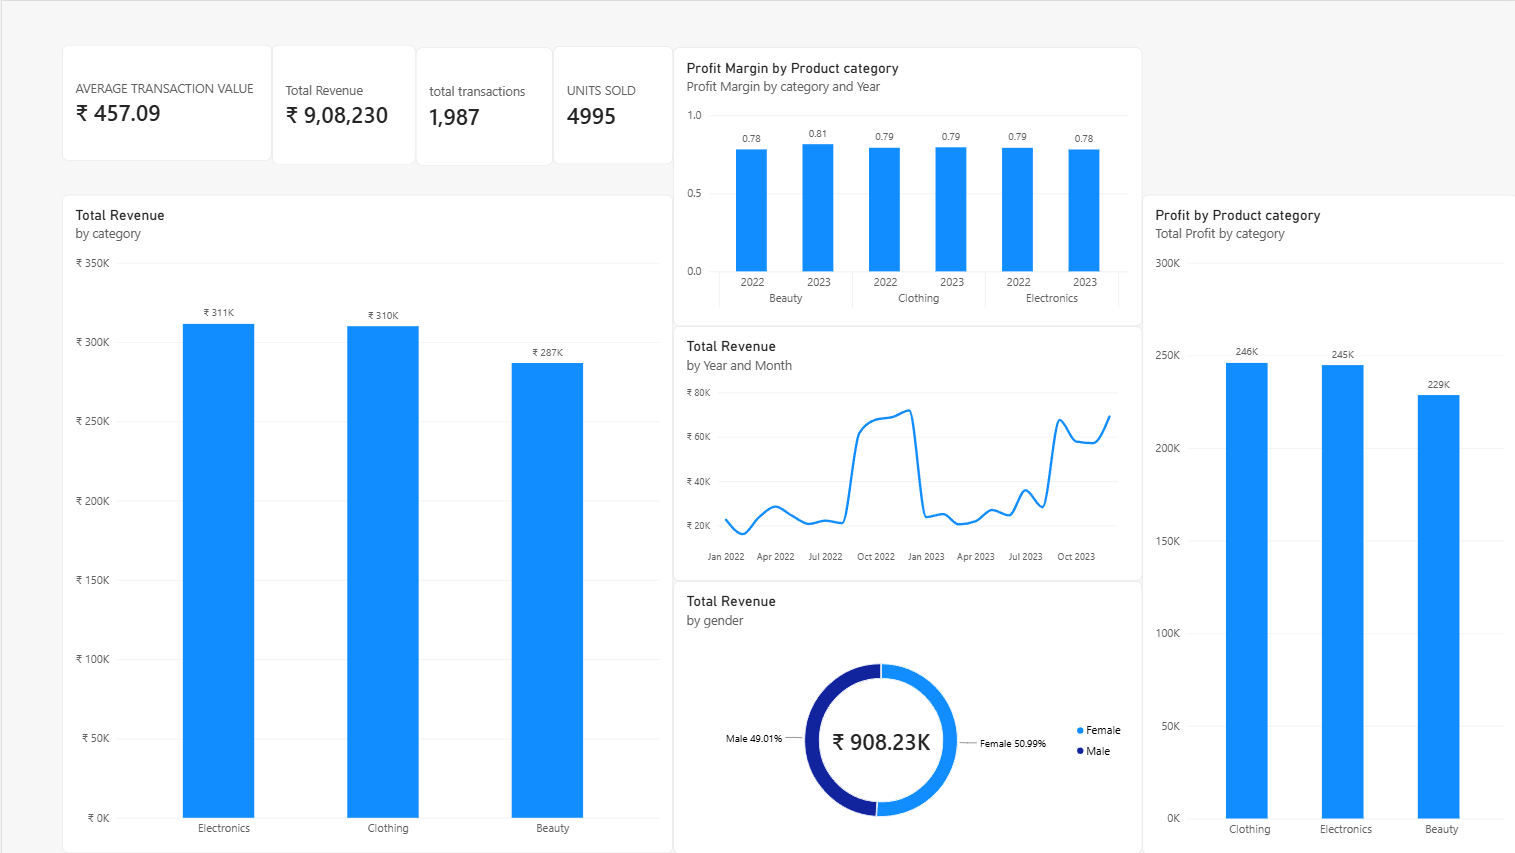

What the dashboard file says about the page in this screenshot:
{"tool":"powerbi","page":{"name":"Page 1","canvas":[1920,1080],"ordinal":0},"visuals":[{"type":"cardVisual","fields":{"Data":["sql_project_p1 retail_sales.AVERAGE TRANSACTION VALUE"]},"box":[75.8,2.9,266.1,147.3],"z":0},{"type":"cardVisual","fields":{"Data":["sql_project_p1 retail_sales.Total Revenue"]},"box":[342.6,0,182.2,152.1],"z":1000},{"type":"cardVisual","fields":{"Data":["sql_project_p1 retail_sales.total transactions"]},"box":[524.8,0,174.3,150.5],"z":2000},{"type":"cardVisual","fields":{"Data":["sql_project_p1 retail_sales.UNITS SOLD"]},"box":[699.8,0,152.1,150.5],"z":3000},{"type":"columnChart","fields":{"Category":["sql_project_p1 retail_sales.category"],"Y":["sql_project_p1 retail_sales.Total Revenue"]},"box":[75.8,151.6,774.1,928.7],"z":4000},{"type":"lineChart","fields":{"Category":["sql_project_p1 retail_sales.sale_date.Variation.Date Hierarchy.Year","sql_project_p1 retail_sales.sale_date.Variation.Date Hierarchy.Month"],"Y":["sql_project_p1 retail_sales.Total Revenue"]},"box":[850.7,411.9,594.1,323.2],"z":5000},{"type":"donutChart","fields":{"Category":["sql_project_p1 retail_sales.gender"],"Y":["sql_project_p1 retail_sales.Total Revenue"]},"box":[850.7,735,594.1,345.3],"z":6000},{"type":"clusteredColumnChart","title":"Profit by Product category","fields":{"Category":["sql_project_p1 retail_sales.category"],"Y":["sql_project_p1 retail_sales.Total Profit"]},"box":[1444.8,0,475.3,1080.3],"z":6001},{"type":"clusteredColumnChart","title":"Profit Margin by Product category","fields":{"Category":["sql_project_p1 retail_sales.category"],"Y":["sql_project_p1 retail_sales.Profit Margin"]},"box":[851.4,0,593.4,412.6],"z":6002}]}

Visuals, with their boxes in screenshot pixels (x1, y1, x2, y2), scaled from the page's 1920x1080 canvas onto the 1515x853 screenshot:
cardVisual - sql_project_p1 retail_sales.AVERAGE TRANSACTION VALUE: left=60, top=2, right=270, bottom=119
cardVisual - sql_project_p1 retail_sales.Total Revenue: left=270, top=0, right=414, bottom=120
cardVisual - sql_project_p1 retail_sales.total transactions: left=414, top=0, right=552, bottom=119
cardVisual - sql_project_p1 retail_sales.UNITS SOLD: left=552, top=0, right=672, bottom=119
columnChart - sql_project_p1 retail_sales.category x sql_project_p1 retail_sales.Total Revenue: left=60, top=120, right=671, bottom=852
lineChart - sql_project_p1 retail_sales.sale_date.Variation.Date Hierarchy.Year x sql_project_p1 retail_sales.sale_date.Variation.Date Hierarchy.Month: left=671, top=325, right=1140, bottom=581
donutChart - sql_project_p1 retail_sales.gender x sql_project_p1 retail_sales.Total Revenue: left=671, top=581, right=1140, bottom=852
"Profit by Product category" clusteredColumnChart: left=1140, top=0, right=1514, bottom=852
"Profit Margin by Product category" clusteredColumnChart: left=672, top=0, right=1140, bottom=326
